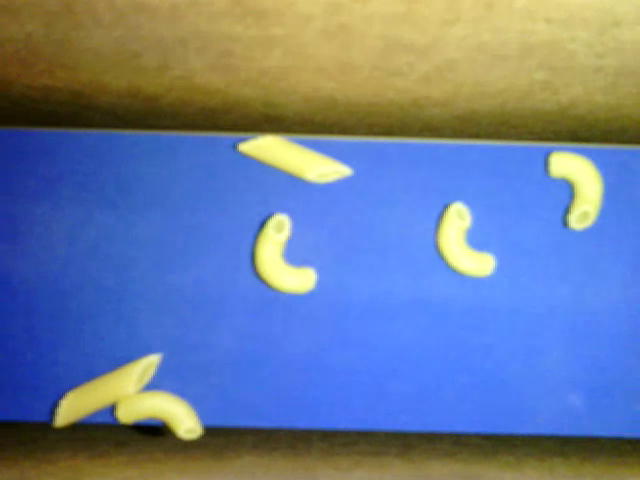elbow: (254, 213, 319, 295), (547, 150, 604, 231), (437, 200, 496, 278), (114, 390, 203, 441)
penne: (52, 352, 162, 426), (235, 134, 353, 184)
